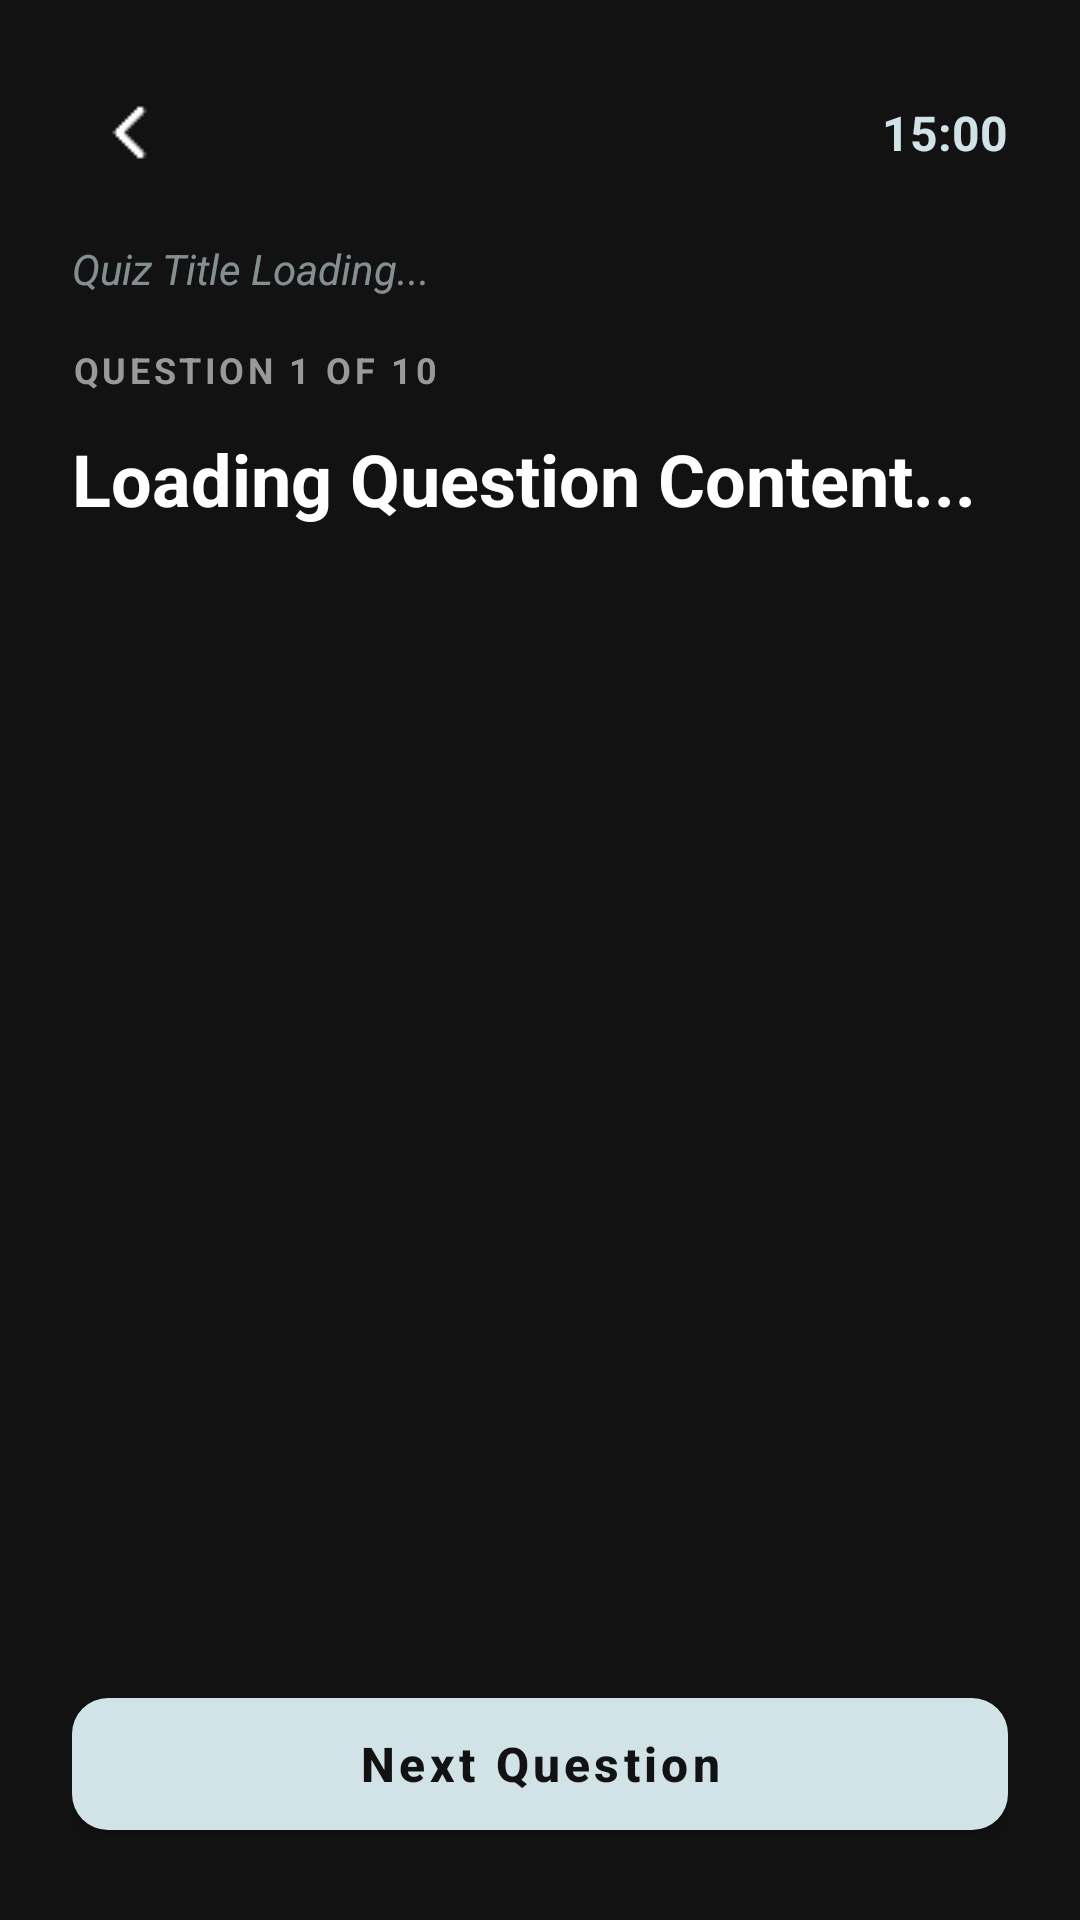

Icon bounding boxes for this 1080px×1920px phone screenshot, format bbox=(x1, y1, x2, y2):
back: bbox=(112, 106, 147, 159)
